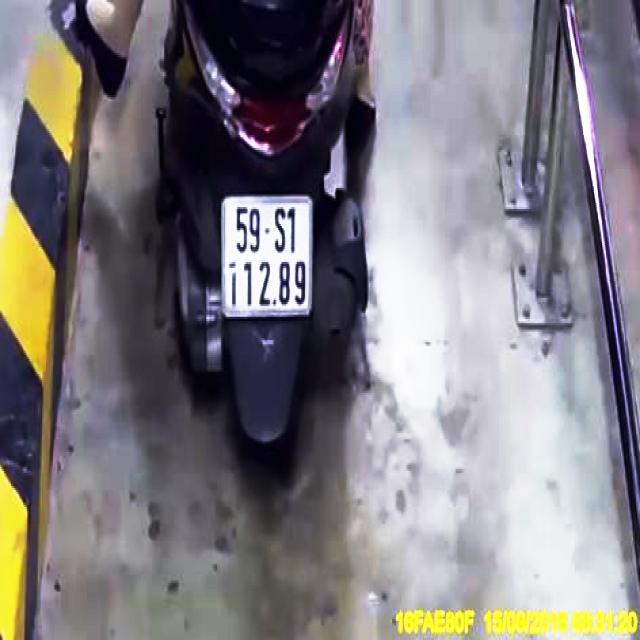license_plate: (226, 199, 314, 312)
